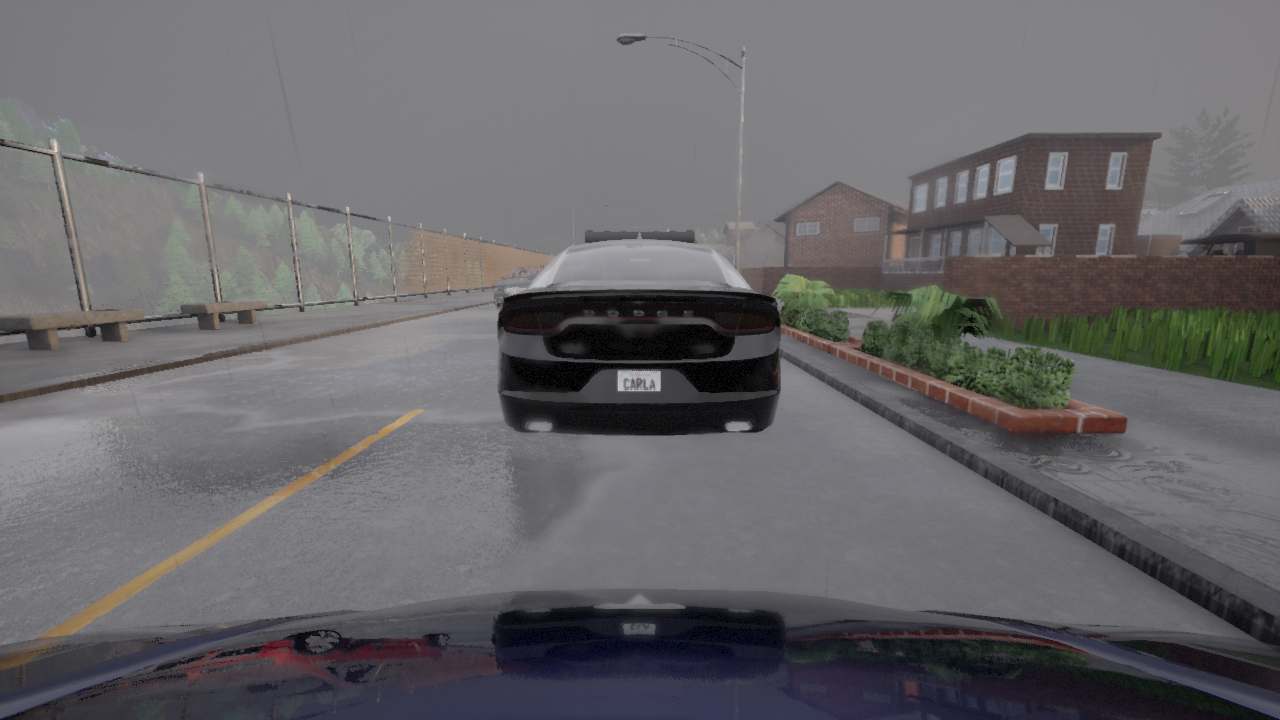cyclist: (0, 588, 1279, 719), (498, 229, 780, 435), (1170, 232, 1279, 255), (494, 265, 545, 307)
